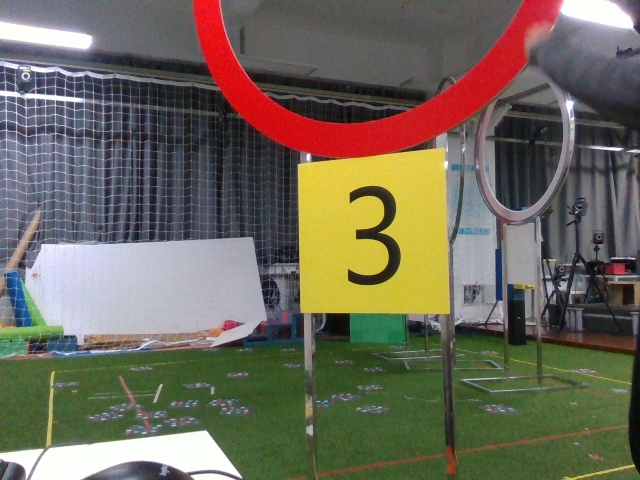target: (298, 166, 446, 311)
